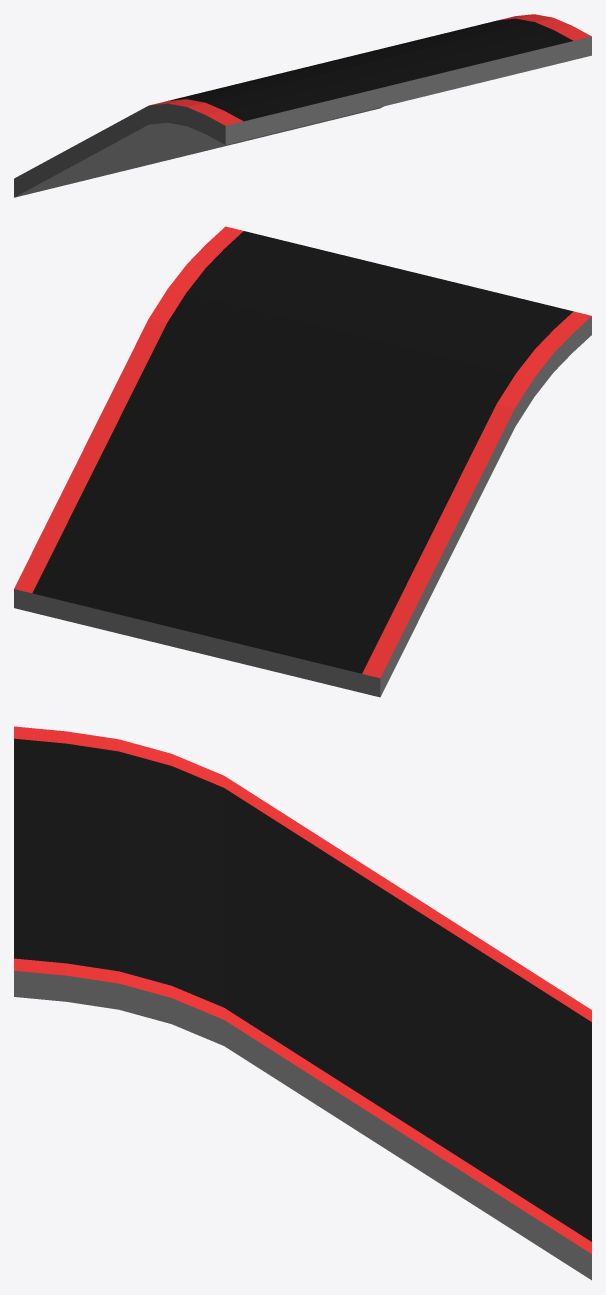
Rendered from Streckenmodul_-_Rampe_Steil_Oben.fbx.
3 views of the same model, one above another, from view 1: azimuth 30°, elevation 25°; view 2: azimuth 150°, elevation 25°; view 3: azimuth 270°, elevation 25° (orthographic). The views are drawn at different scales.
Visible parts, largest first — view 1: Streckenmodul - Rampe_Steil_Oben; view 2: Streckenmodul - Rampe_Steil_Oben; view 3: Streckenmodul - Rampe_Steil_Oben.
Boxes of the visible parts, x1,y1,x2,y2 form: Streckenmodul - Rampe_Steil_Oben: (14, 14, 591, 197); Streckenmodul - Rampe_Steil_Oben: (14, 226, 591, 697); Streckenmodul - Rampe_Steil_Oben: (14, 726, 591, 1280).
Size of the model in its own units: 394 by 233 by 394.
